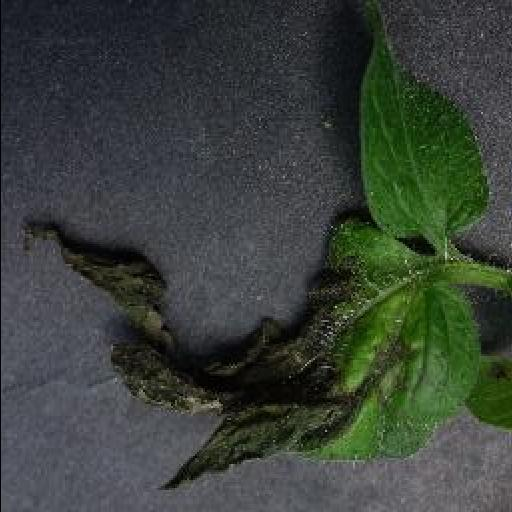disease_tomato: (16, 220, 482, 494)
